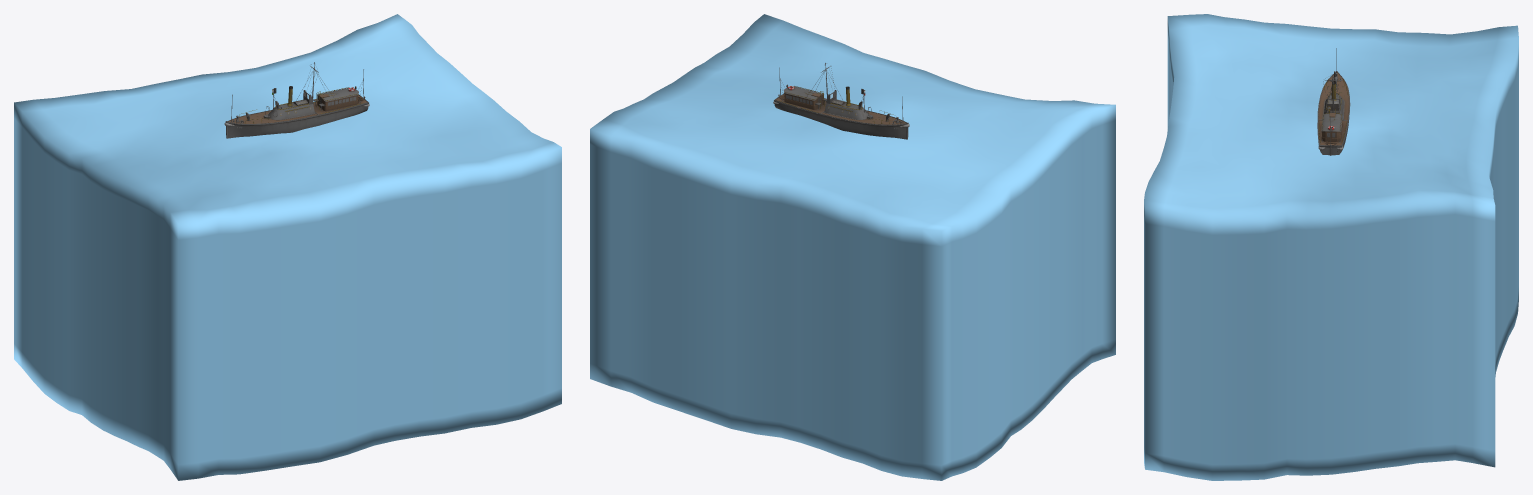
The model's file is posterP4.glb.
3 renders of one model, left to right at view 1: azimuth 30°, elevation 25°; view 2: azimuth 150°, elevation 25°; view 3: azimuth 270°, elevation 25°, orthographic. The views are drawn at different scales.
Parts seen in each view (by area): view 1: ocean, 17m Motor pinnace; view 2: ocean, 17m Motor pinnace; view 3: ocean, 17m Motor pinnace.
Part boxes in pixels (x1,y1,x2,y2): ocean: (14,14,561,480); 17m Motor pinnace: (224,62,369,138); ocean: (590,14,1115,480); 17m Motor pinnace: (773,63,909,139); ocean: (1144,14,1518,480); 17m Motor pinnace: (1317,48,1350,155).
Bounding box in the file's own units: 1.24 × 1.01 × 1.04.
Materials: 4 (1 with a texture image).
